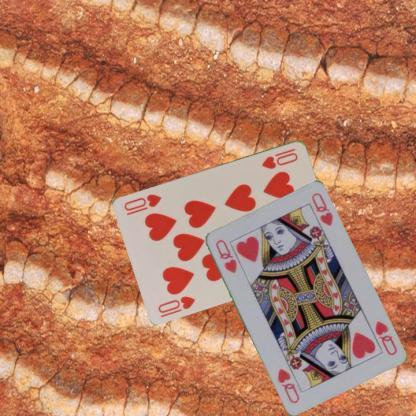10h: (260, 145, 300, 170), (156, 292, 196, 314)
Qh: (372, 318, 399, 356), (213, 236, 238, 275)
